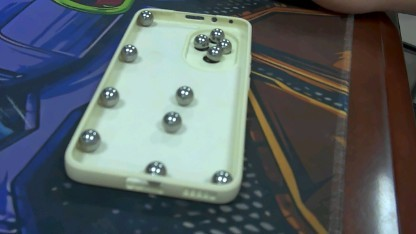ironball: (208, 163, 236, 193), (77, 125, 103, 155), (115, 37, 140, 66), (94, 83, 120, 109), (171, 82, 195, 110), (136, 4, 155, 31), (160, 110, 181, 134), (144, 159, 165, 180), (191, 29, 208, 50), (208, 24, 224, 43), (207, 44, 221, 61), (219, 36, 233, 53)
